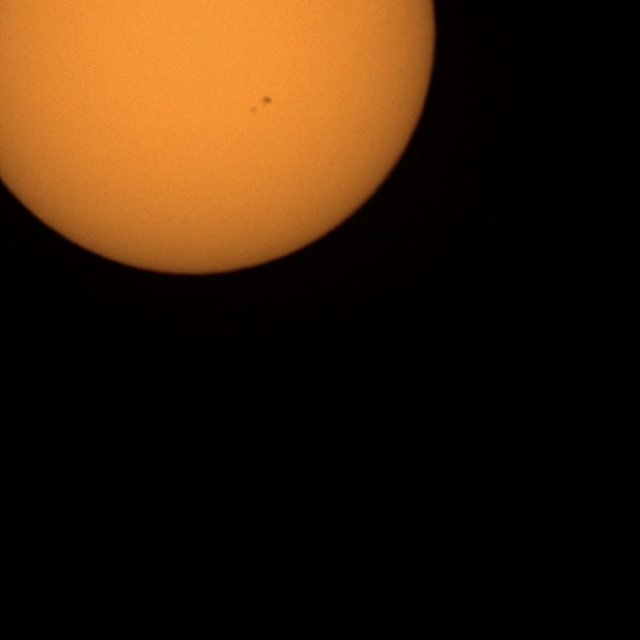sunspot: (247, 94, 273, 116), (260, 95, 273, 106)
